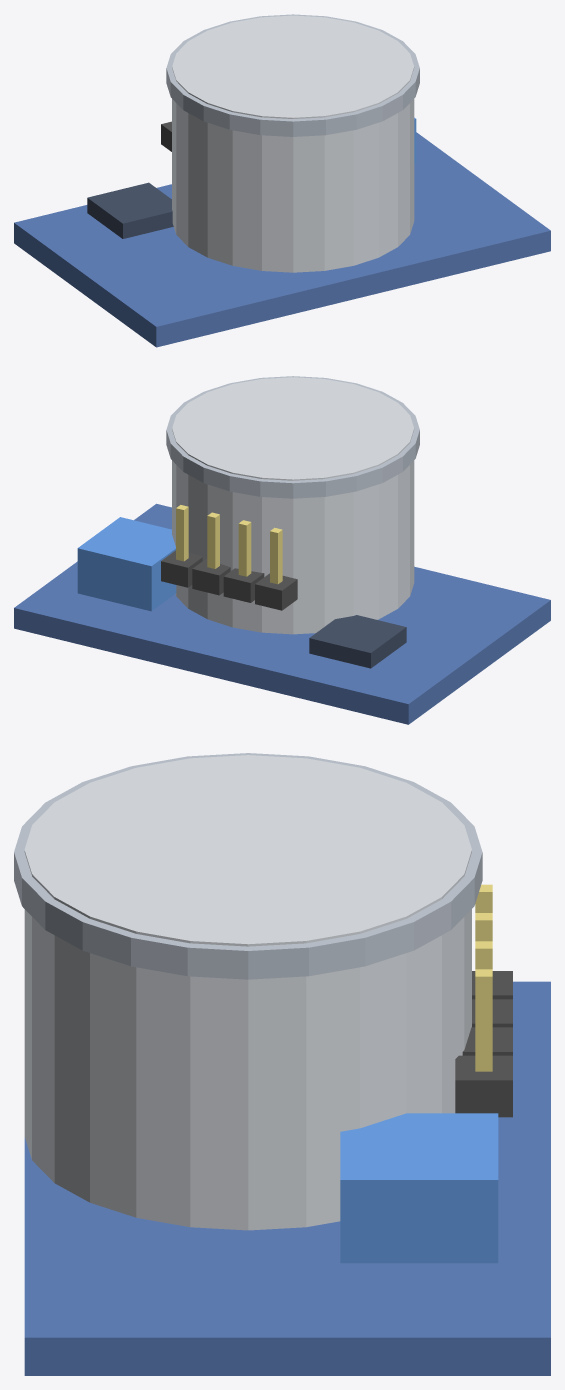
File: gas-sensor.glb
The picture shows the model from 3 angles, top to bottom: view 1: azimuth 30°, elevation 25°; view 2: azimuth 150°, elevation 25°; view 3: azimuth 270°, elevation 25°; orthographic projection. The views are drawn at different scales.
Visible parts, largest first — view 1: mq-2-gas-sensor_mesh; view 2: mq-2-gas-sensor_mesh; view 3: mq-2-gas-sensor_mesh.
Part boxes in pixels (x1,y1,x2,y2): mq-2-gas-sensor_mesh: (14, 14, 550, 347); mq-2-gas-sensor_mesh: (14, 376, 550, 724); mq-2-gas-sensor_mesh: (14, 753, 550, 1375).
Size of the model in its own units: 32 by 14.6 by 20.4.
